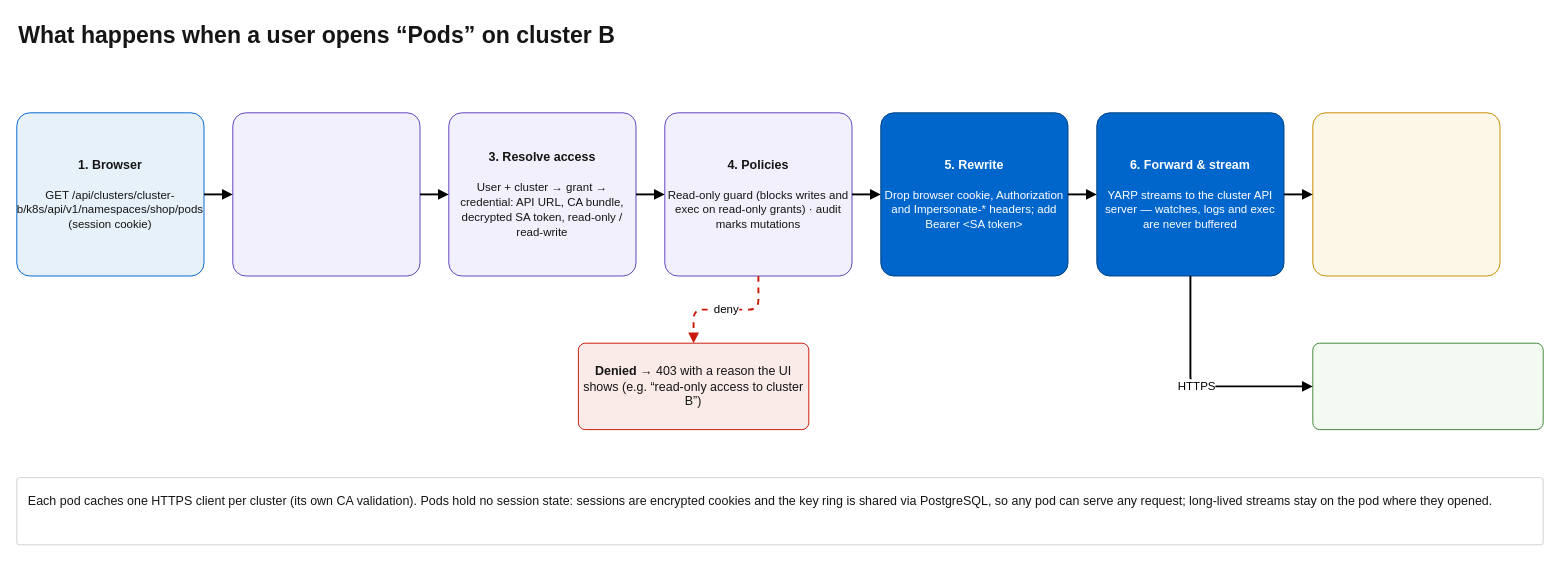
The diagram is 1560 pixels wide and 562 high, and some of its shapes have lost their labels. The shapes that lost their labels are listed below. From the top down, each one's centre as x and y in pixels, then its label:
At (x=326, y=194): "2. Authenticate Session cookie → current user (active, role)".
At (x=1406, y=194): "7. Record Audit entry for mutations (who, cluster, verb, path, status)".
At (x=1427, y=386): "Cluster B API server its own RBAC decides for the ServiceAccount".
